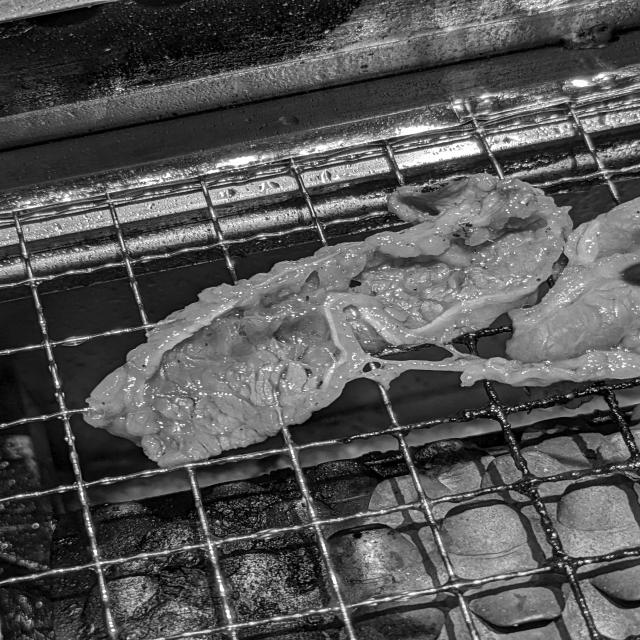OK undercooked beef,: (60, 154, 640, 485)
